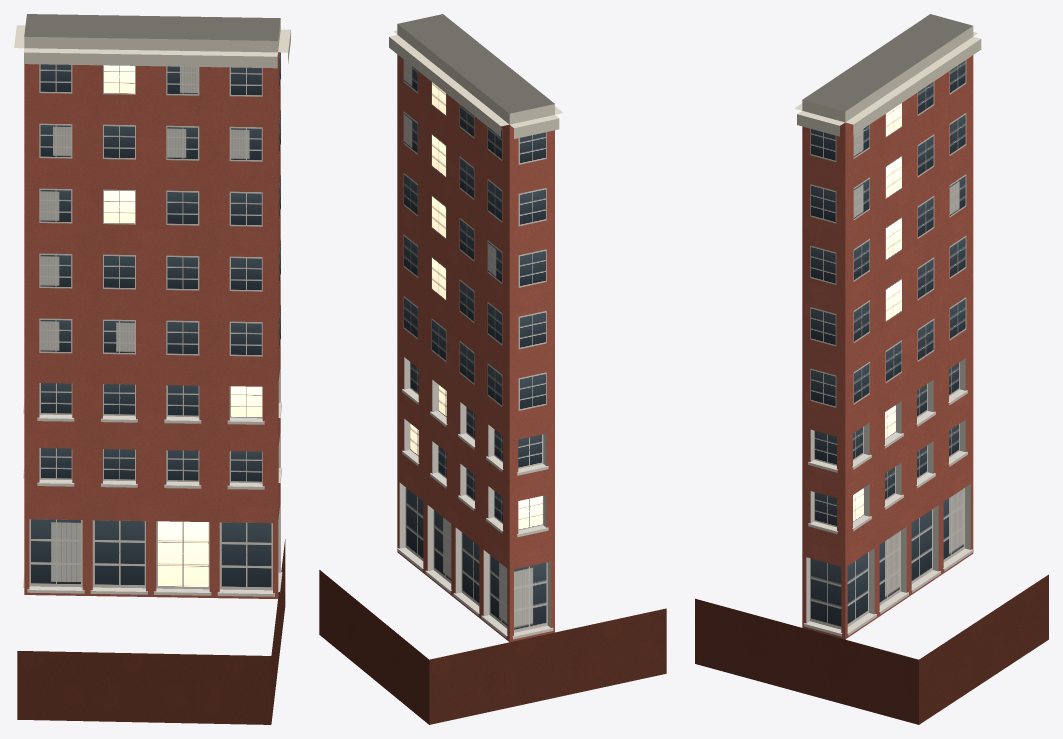
The model's file is z3c_hohl_brick.glb.
The picture shows the model from 3 angles, left to right: view 1: azimuth 30°, elevation 25°; view 2: azimuth 150°, elevation 25°; view 3: azimuth 270°, elevation 25°; orthographic projection. The views are drawn at different scales.
Parts seen in each view (by area): view 1: z3c_hohl_brick; view 2: z3c_hohl_brick; view 3: z3c_hohl_brick.
Boxes of the visible parts, x1=… form: z3c_hohl_brick: x1=14, y1=14, x2=290, y2=724; z3c_hohl_brick: x1=319, y1=14, x2=666, y2=724; z3c_hohl_brick: x1=695, y1=14, x2=1048, y2=724.
Size of the model in its own units: 14.45 by 27.28 by 14.74.
3 materials, 3 textured.
